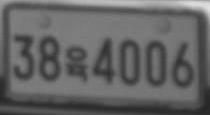0: (119, 39, 140, 85), (145, 41, 167, 84)
3: (13, 33, 35, 80)
4: (92, 37, 116, 84)
6: (172, 43, 193, 88)
8: (39, 36, 60, 81)
육: (64, 46, 88, 82)
